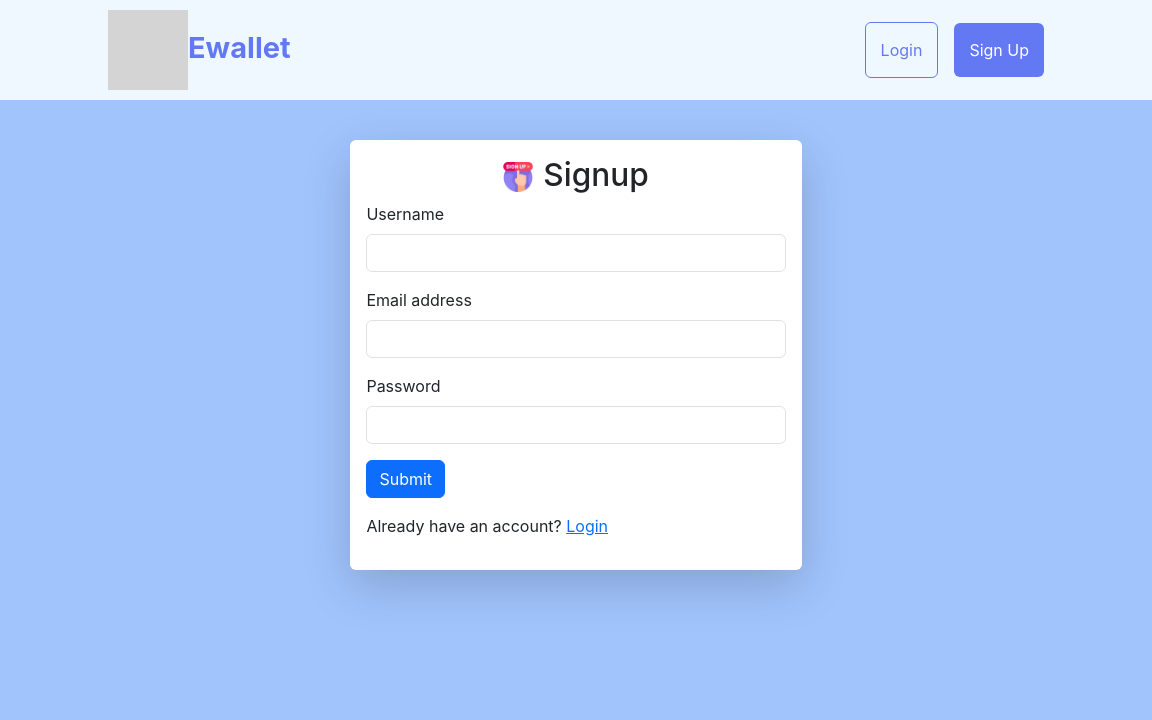
it: Signup Component › Submit the signup form with valid data
Type "test" into the field labelled "Username" at {"x": 576, "y": 253}, box [366,234,786,272]
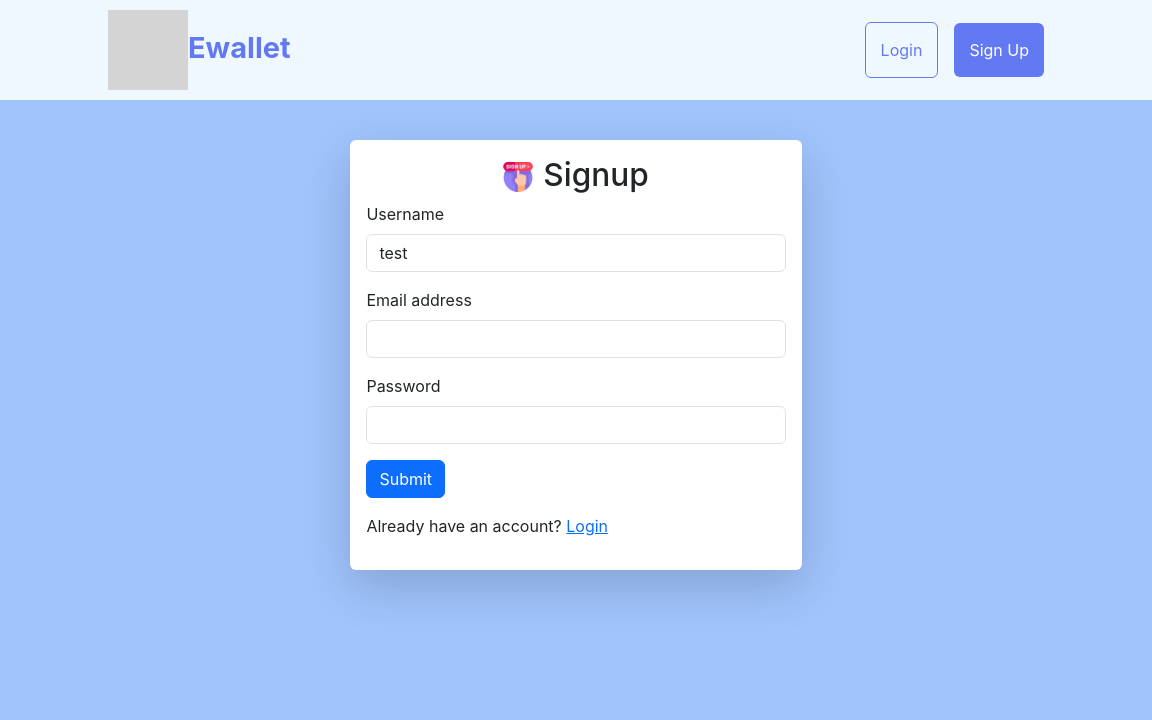
Type "test@example.com" into the field labelled "Email address" at {"x": 576, "y": 339}, box [366,320,786,358]
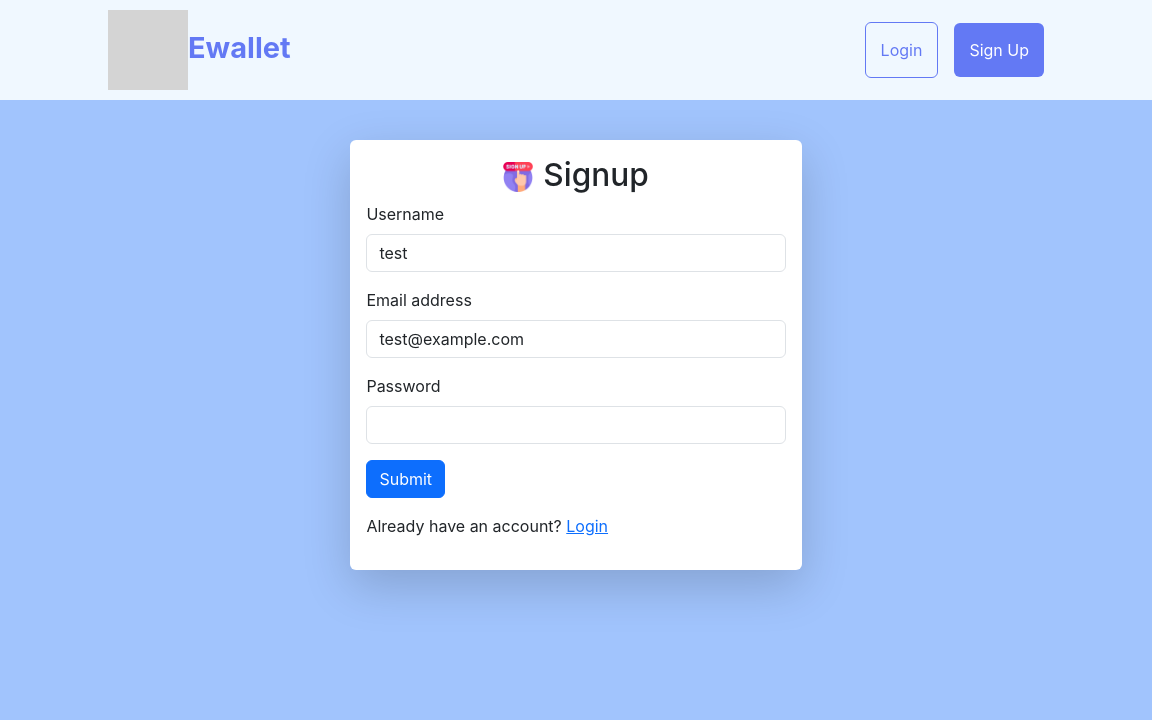
Type "password123" into the password field labelled "Password" at {"x": 576, "y": 425}, box [366,406,786,444]
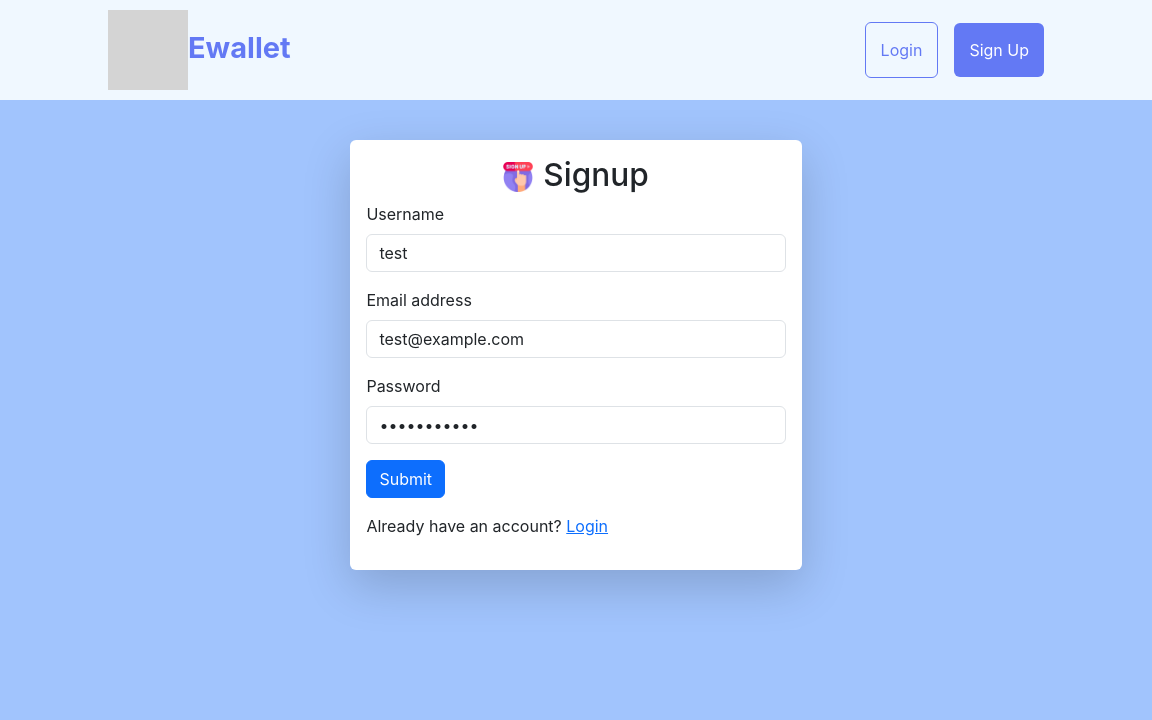
Click the button "Submit" at {"x": 406, "y": 479}, box [366,460,445,498]
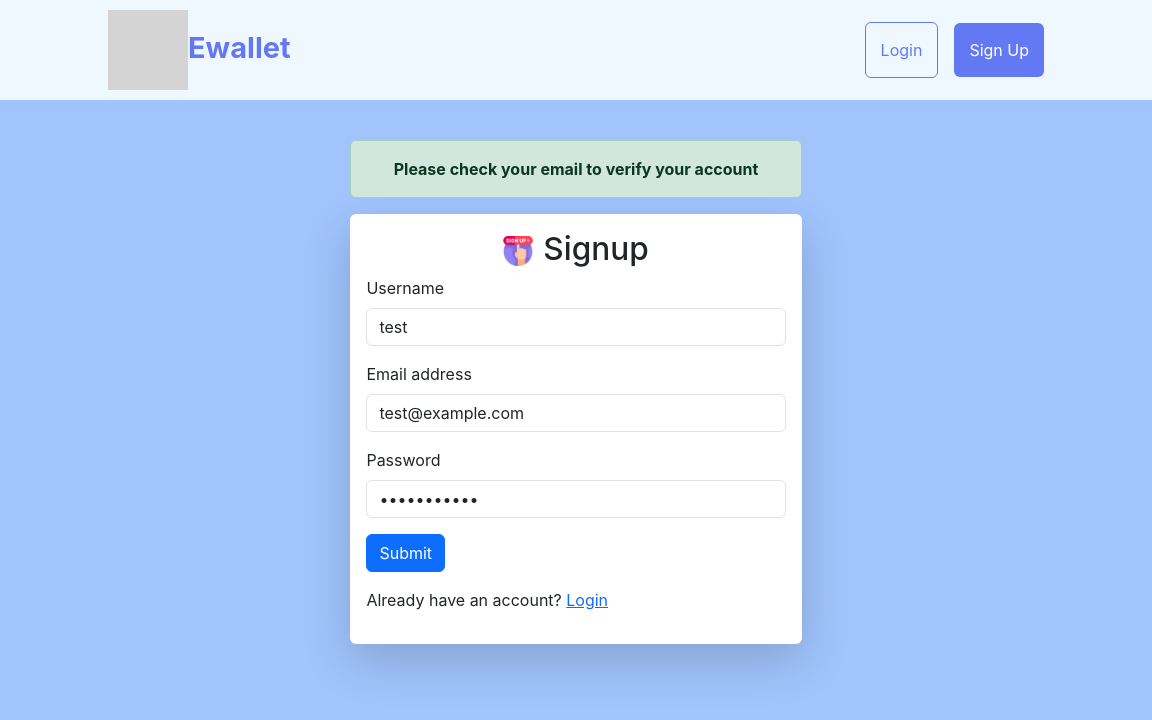
expect the text "Please check your email to verify your account" is shown: met, box [350,140,802,198]
